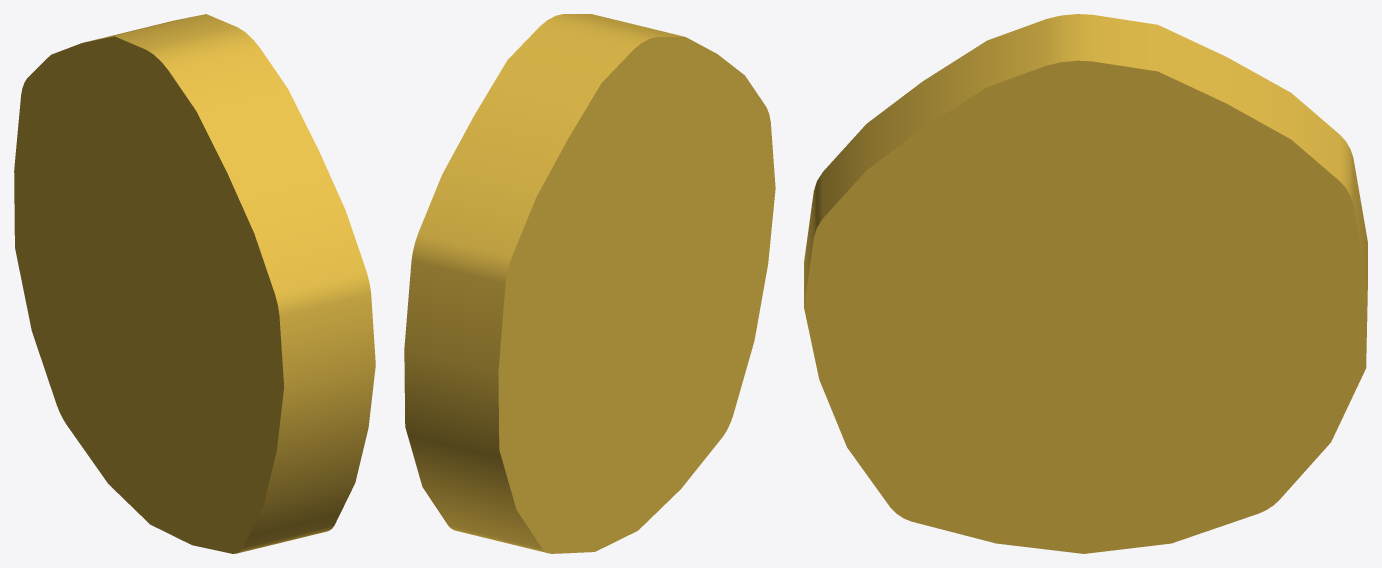
The model's file is banana_middle.fbx.
3 renders of one model, left to right at view 1: azimuth 30°, elevation 25°; view 2: azimuth 150°, elevation 25°; view 3: azimuth 270°, elevation 25°, orthographic. The views are drawn at different scales.
Visible parts, largest first — view 1: middle; view 2: middle; view 3: middle.
Part boxes in pixels (x1,y1,x2,y2): middle: (14,14,375,553); middle: (404,14,775,553); middle: (804,14,1367,553).
Size of the model in its own units: 17.16 by 84.5 by 87.52.
